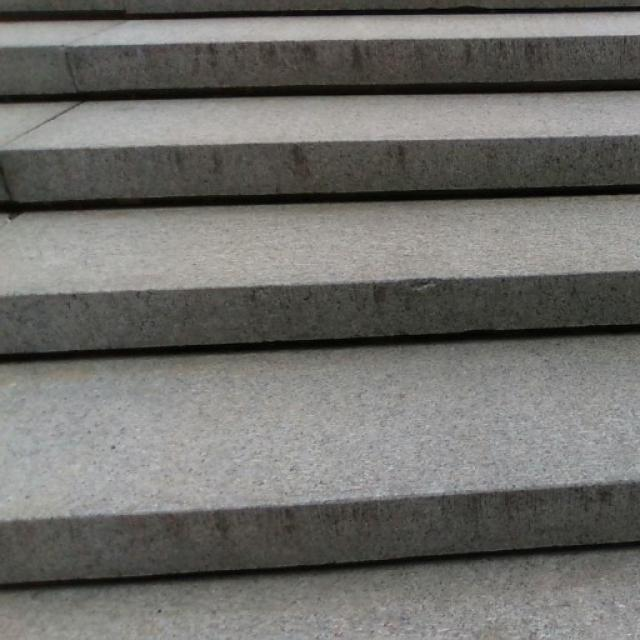Stairs: (0, 0, 639, 590)
